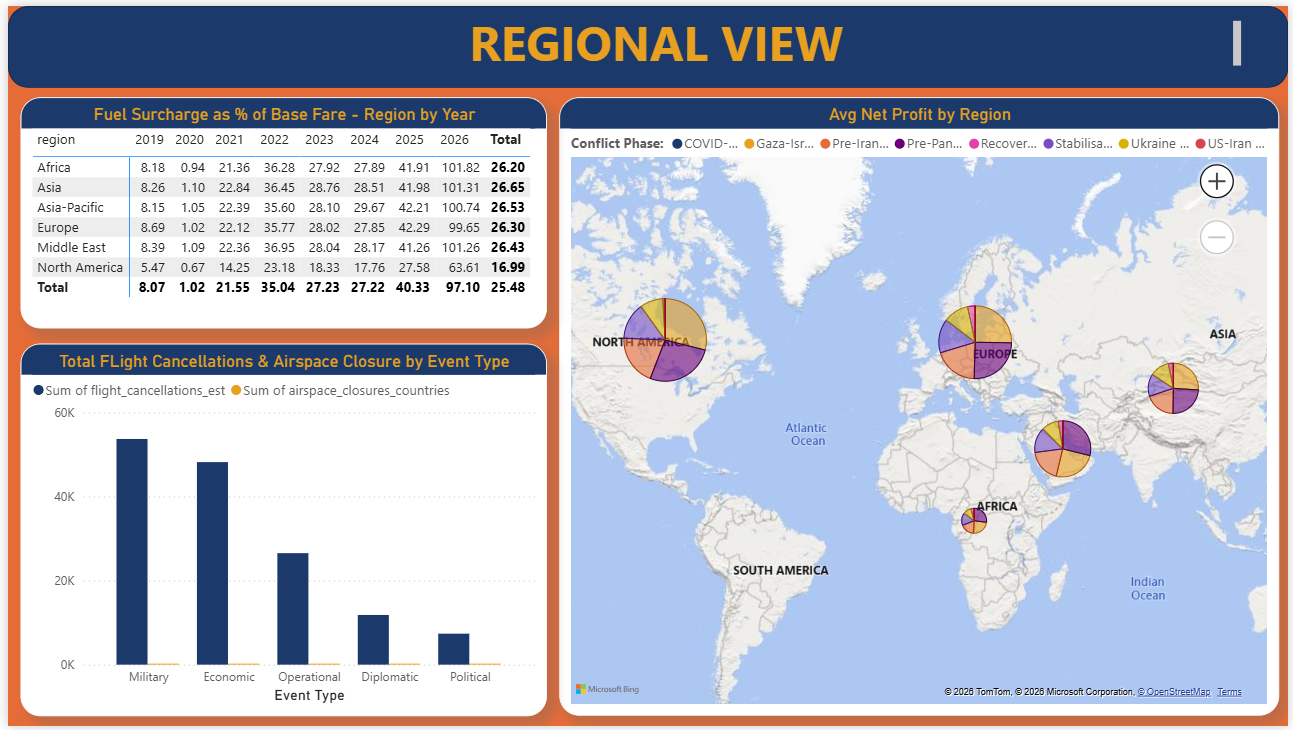

Layout of this report page (visuals, bound fields, positions):
{"tool":"powerbi","page":{"name":"Regional View","canvas":[1280,720],"ordinal":5},"visuals":[{"type":"map","title":"Avg Net Profit by Region","fields":{"Category":["airline_financial_impact.region"],"Size":["airline_financial_impact.Total Net Profit (USD)"],"Series":["airline_financial_impact.conflict_phase"]},"box":[551.2,91.2,720,618.8],"z":0},{"type":"clusteredColumnChart","title":"Total FLight Cancellations & Airspace Closure by Event Type","fields":{"Category":["conflict_oil_events.event_type"],"Y":["Sum(conflict_oil_events.flight_cancellations_est)","Sum(conflict_oil_events.airspace_closures_countries)"]},"box":[12.5,337.5,526.2,372.5],"z":1000},{"type":"pivotTable","title":"Fuel Surcharge as % of Base Fare - Region by Year","fields":{"Rows":["fuel_surcharges.region"],"Columns":["fuel_surcharges.Year_Label"],"Values":["Avg(fuel_surcharges.surcharge_as_pct_base)"]},"box":[12.5,91.2,526.2,231.2],"z":2000},{"type":"shape","box":[0,0,1280.3,81.9],"z":3000},{"type":"textbox","box":[67.3,9.8,1170.3,63.6],"z":4000}]}

Visuals, with their boxes in screenshot pixels (x1, y1, x2, y2), scaled from the page's 1280x720 canvas onto the 1293x730 screenshot:
"Avg Net Profit by Region" map: <region>557, 92, 1284, 720</region>
"Total FLight Cancellations & Airspace Closure by Event Type" clusteredColumnChart: <region>13, 342, 544, 720</region>
"Fuel Surcharge as % of Base Fare - Region by Year" pivotTable: <region>13, 92, 544, 327</region>
shape: <region>0, 0, 1292, 83</region>
textbox: <region>68, 10, 1250, 74</region>
